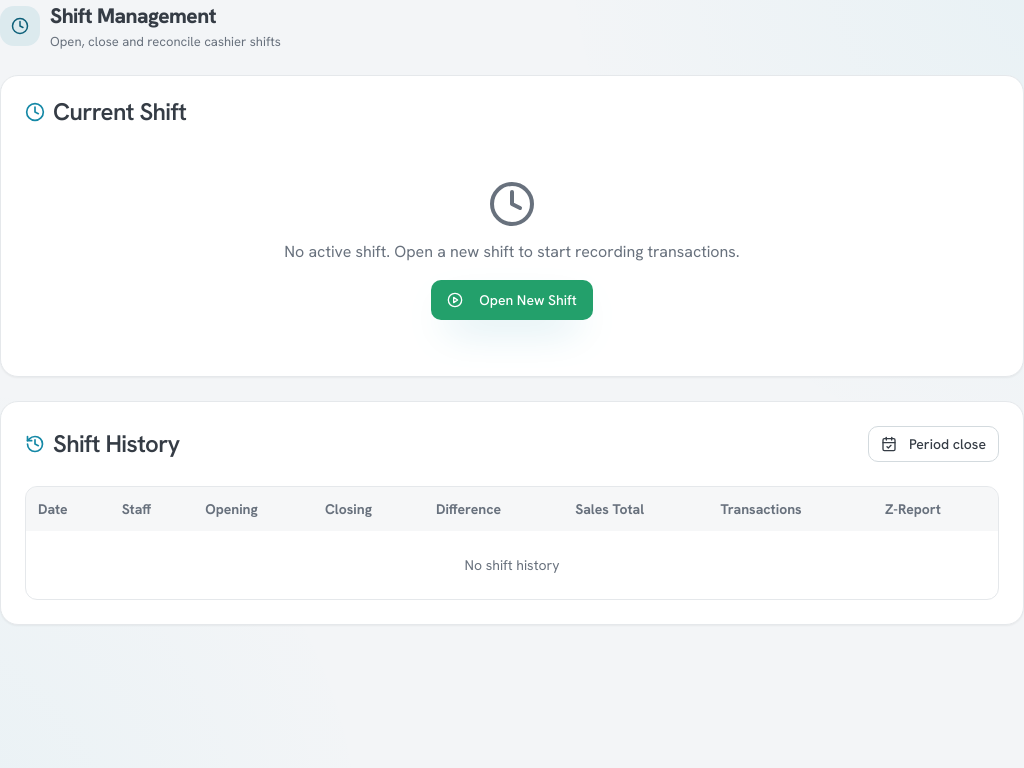
Test: ShiftManagement period close (issue #210) › previews the period roll-up when the period-close dialog opens
What coordinates should you click on to do the following:
click the button "Period close"
I would click on:
 (933, 444)
Its box is [868, 426, 999, 462].
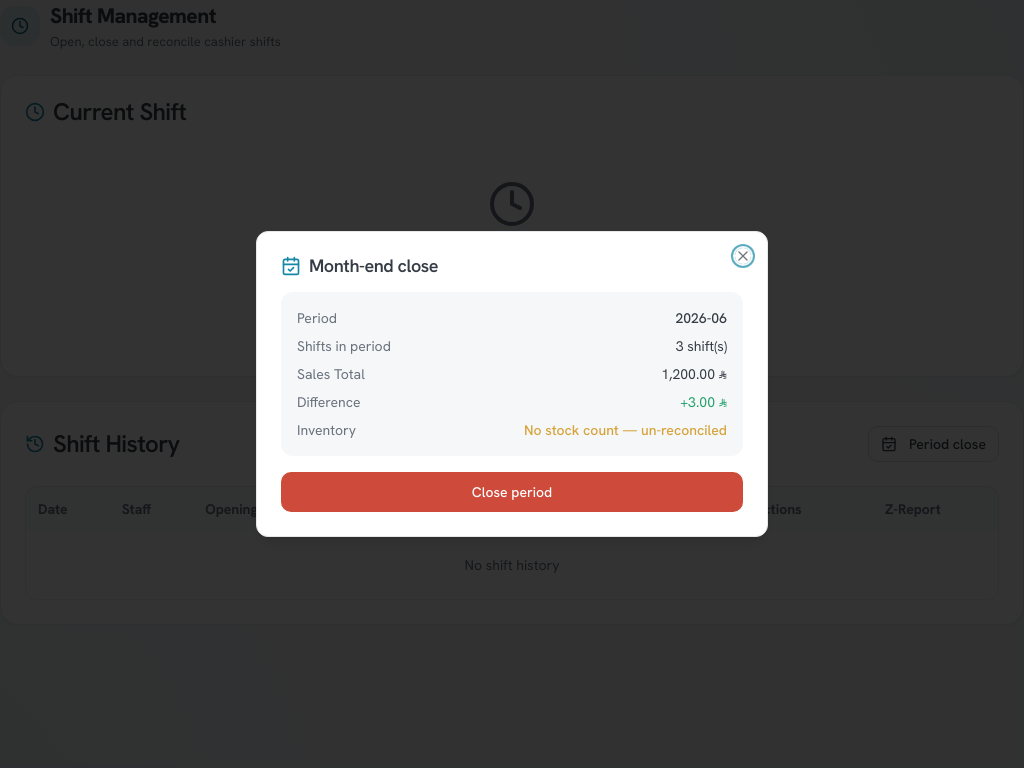
Expected: the text "3 shift(s)" is shown, [676, 336, 727, 356]
Expected: the text "2026-06" is shown, [675, 308, 727, 328]
